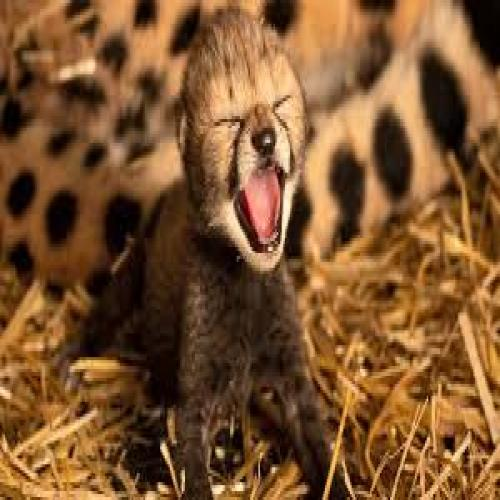cheetah-endangered: (97, 18, 324, 500)
